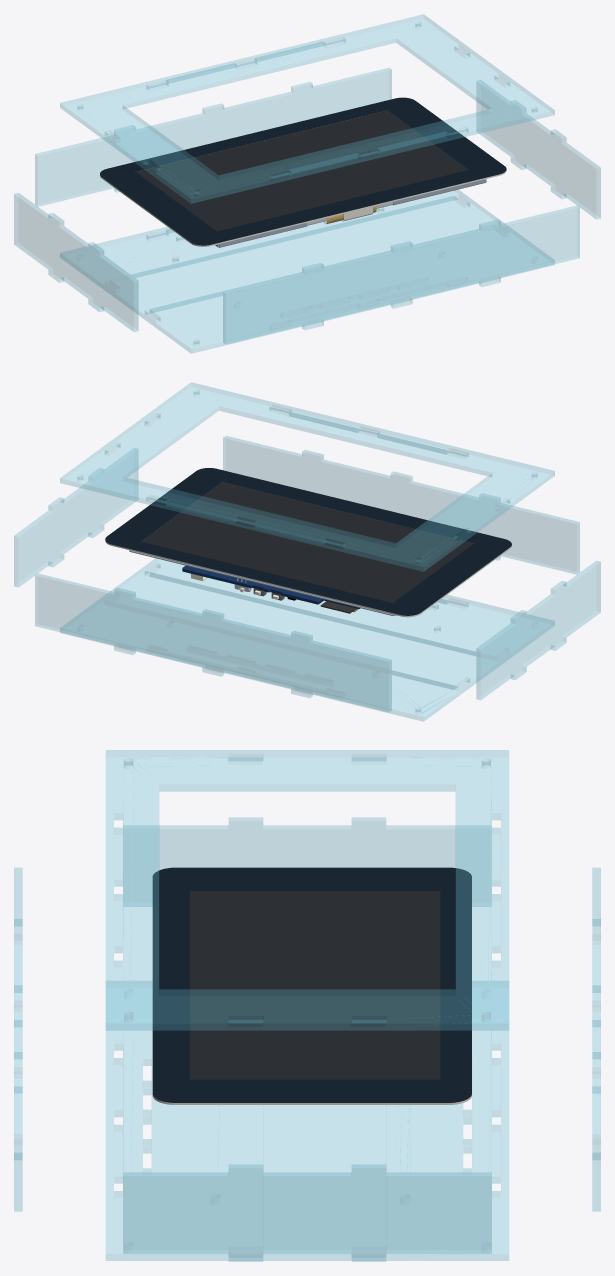
File: waveshare-7b-acrylic-showcase.glb
The picture shows the model from 3 angles, top to bottom: view 1: azimuth 30°, elevation 25°; view 2: azimuth 150°, elevation 25°; view 3: azimuth 270°, elevation 25°; orthographic projection. The views are drawn at different scales.
Visible parts, largest first — view 1: Rear acrylic panel.001, 7INCH-800X480-TP, Front acrylic panel.001, Bottom acrylic panel.001, Top acrylic panel.001, Left acrylic panel.001, Right acrylic panel.001, 7INCH-DSI-TOUCHSCREEN-BRACKET; view 2: Rear acrylic panel.001, 7INCH-800X480-TP, Front acrylic panel.001, Top acrylic panel.001, Bottom acrylic panel.001, Left acrylic panel.001, Right acrylic panel.001, BOARD.001, 7INCH-DSI-TOUCHSCREEN-BRACKET; view 3: 7INCH-800X480-TP, Rear acrylic panel.001, Front acrylic panel.001, Right acrylic panel.001, Left acrylic panel.001, Bottom acrylic panel.001, Top acrylic panel.001.
Boxes of the visible parts, x1=… form: Rear acrylic panel.001: x1=60, y1=190, x2=554, y2=353; 7INCH-800X480-TP: x1=100, y1=97, x2=506, y2=246; Front acrylic panel.001: x1=60, y1=14, x2=554, y2=203; Bottom acrylic panel.001: x1=223, y1=206, x2=579, y2=343; Top acrylic panel.001: x1=35, y1=68, x2=391, y2=206; Left acrylic panel.001: x1=14, y1=193, x2=138, y2=331; Right acrylic panel.001: x1=476, y1=80, x2=600, y2=219; 7INCH-DSI-TOUCHSCREEN-BRACKET: x1=215, y1=179, x2=486, y2=247; Rear acrylic panel.001: x1=60, y1=558, x2=554, y2=721; 7INCH-800X480-TP: x1=105, y1=468, x2=511, y2=617; Front acrylic panel.001: x1=60, y1=382, x2=554, y2=571; Top acrylic panel.001: x1=35, y1=574, x2=391, y2=711; Bottom acrylic panel.001: x1=223, y1=436, x2=579, y2=574; Left acrylic panel.001: x1=476, y1=561, x2=600, y2=699; Right acrylic panel.001: x1=14, y1=448, x2=138, y2=587; BOARD.001: x1=182, y1=565, x2=360, y2=608; 7INCH-DSI-TOUCHSCREEN-BRACKET: x1=129, y1=550, x2=396, y2=615; 7INCH-800X480-TP: x1=152, y1=867, x2=471, y2=1104; Rear acrylic panel.001: x1=106, y1=981, x2=508, y2=1260; Front acrylic panel.001: x1=106, y1=750, x2=508, y2=1030; Right acrylic panel.001: x1=123, y1=1164, x2=491, y2=1261; Left acrylic panel.001: x1=124, y1=817, x2=490, y2=906; Bottom acrylic panel.001: x1=14, y1=868, x2=22, y2=1211; Top acrylic panel.001: x1=592, y1=868, x2=600, y2=1211.
Bounding box in the file's own units: 2.87 × 0.9112 × 2.03.
